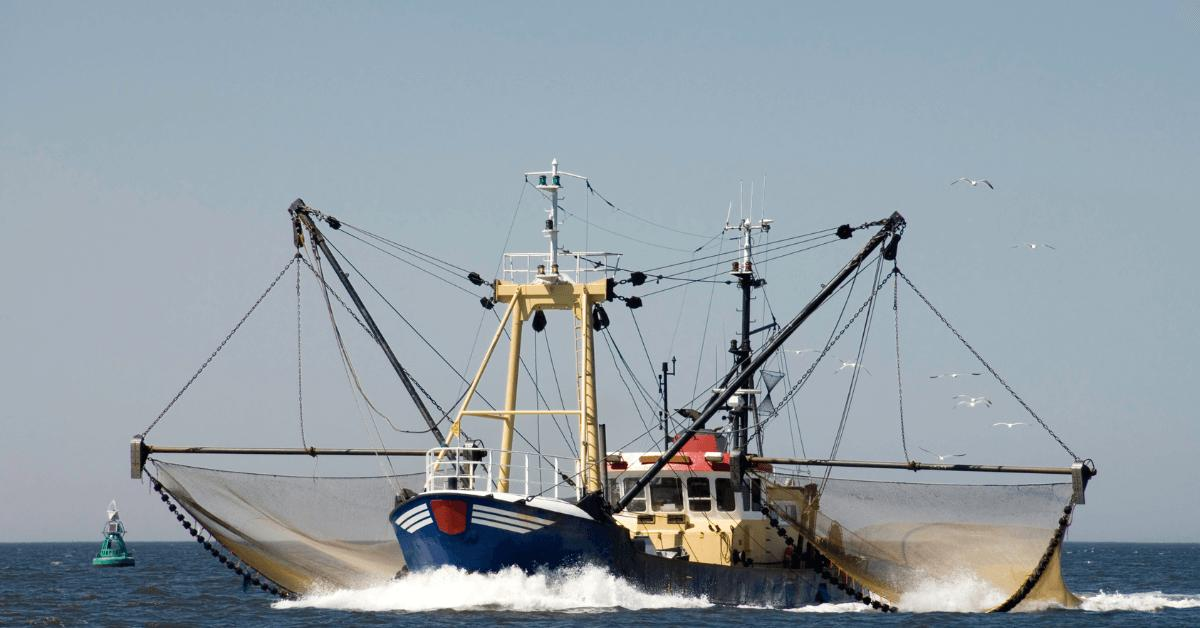fishing boat: (117, 154, 1104, 628)
